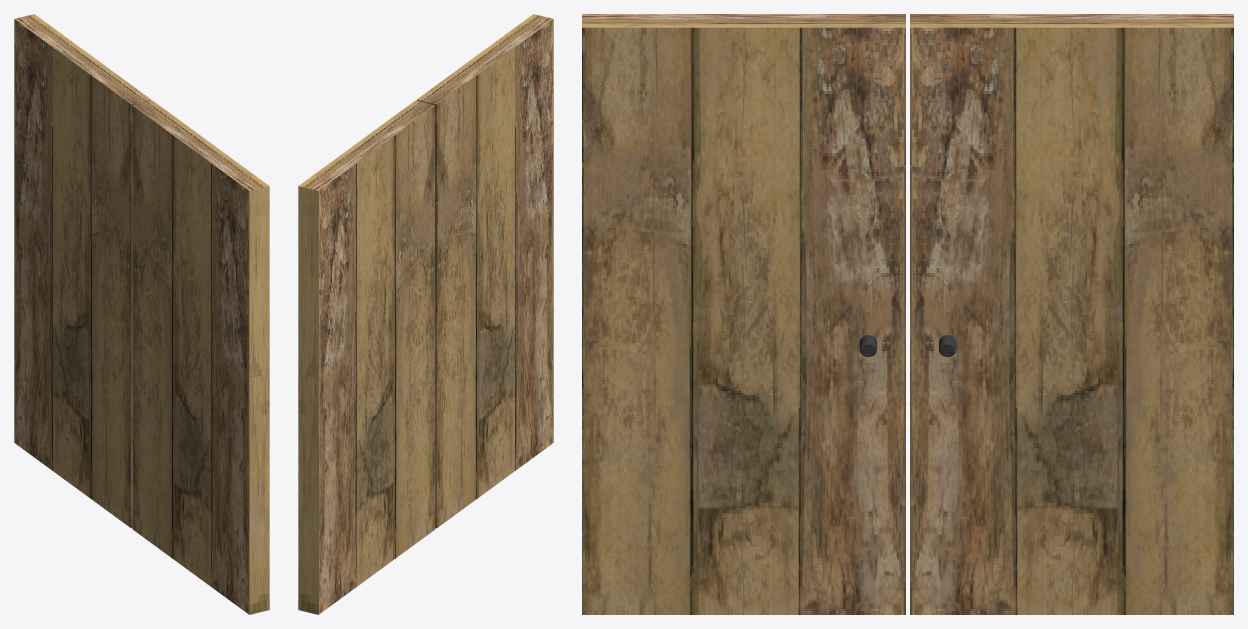
Rendered from doors.glb.
3 renders of one model, left to right at view 1: azimuth 30°, elevation 25°; view 2: azimuth 150°, elevation 25°; view 3: azimuth 270°, elevation 25°, orthographic. The views are drawn at different scales.
Parts seen in each view (by area): view 1: Door-col, Door_r-col; view 2: Door_r-col, Door-col; view 3: Door-col, Door_r-col.
Part boxes in pixels (x1,y1,x2,y2): Door-col: (132,100,269,614); Door_r-col: (14,14,151,528); Door_r-col: (298,100,435,614); Door-col: (416,14,553,528); Door-col: (582,14,905,614); Door_r-col: (910,14,1233,614).
Bounding box in the file's own units: 0.1719 × 2 × 2.01.
2 materials, 2 textured.
